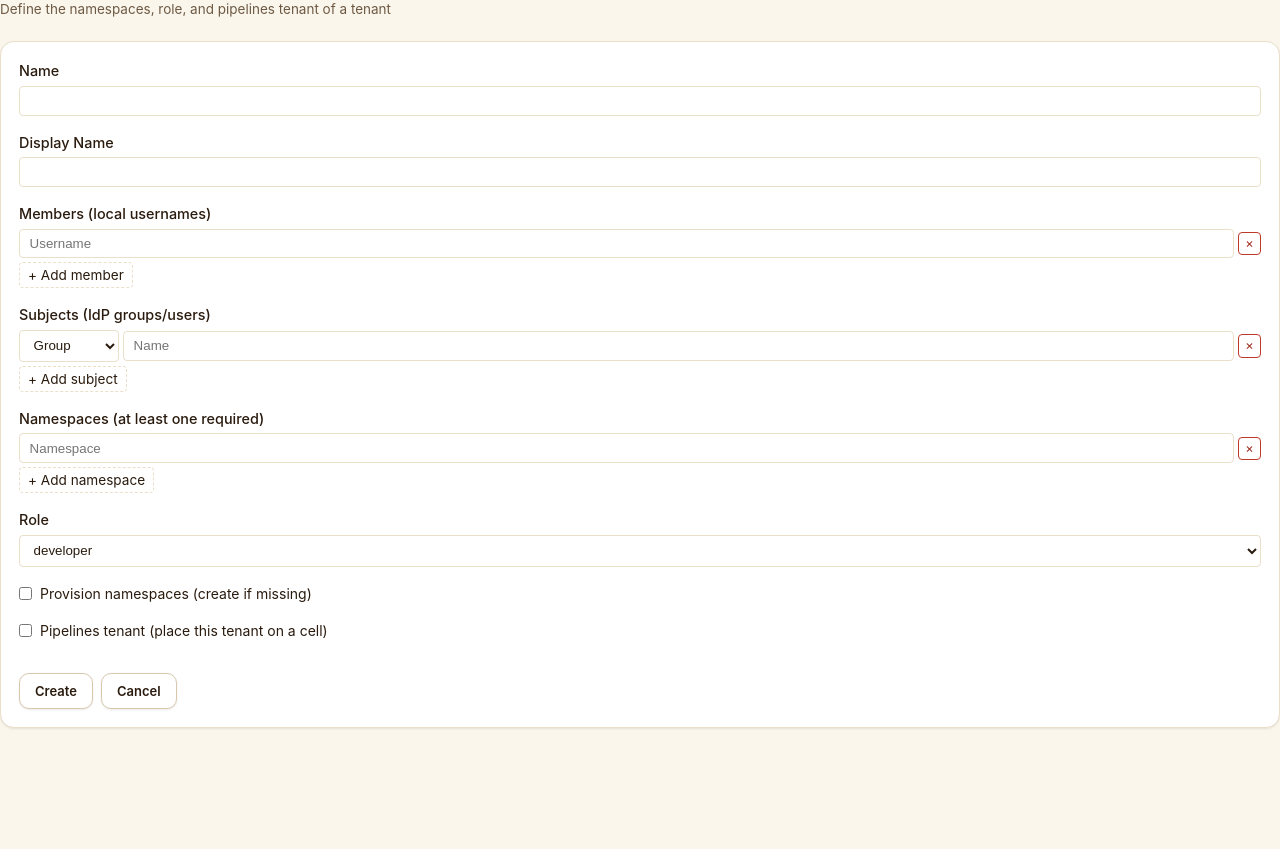
Test case: TenantForm › rejects a submitted export that names neither a job pattern nor a caller
This screenshot has width=1280, height=849.
Type "payments" into the 1st field. click: (640, 101)
box: [19,86,1261,116]
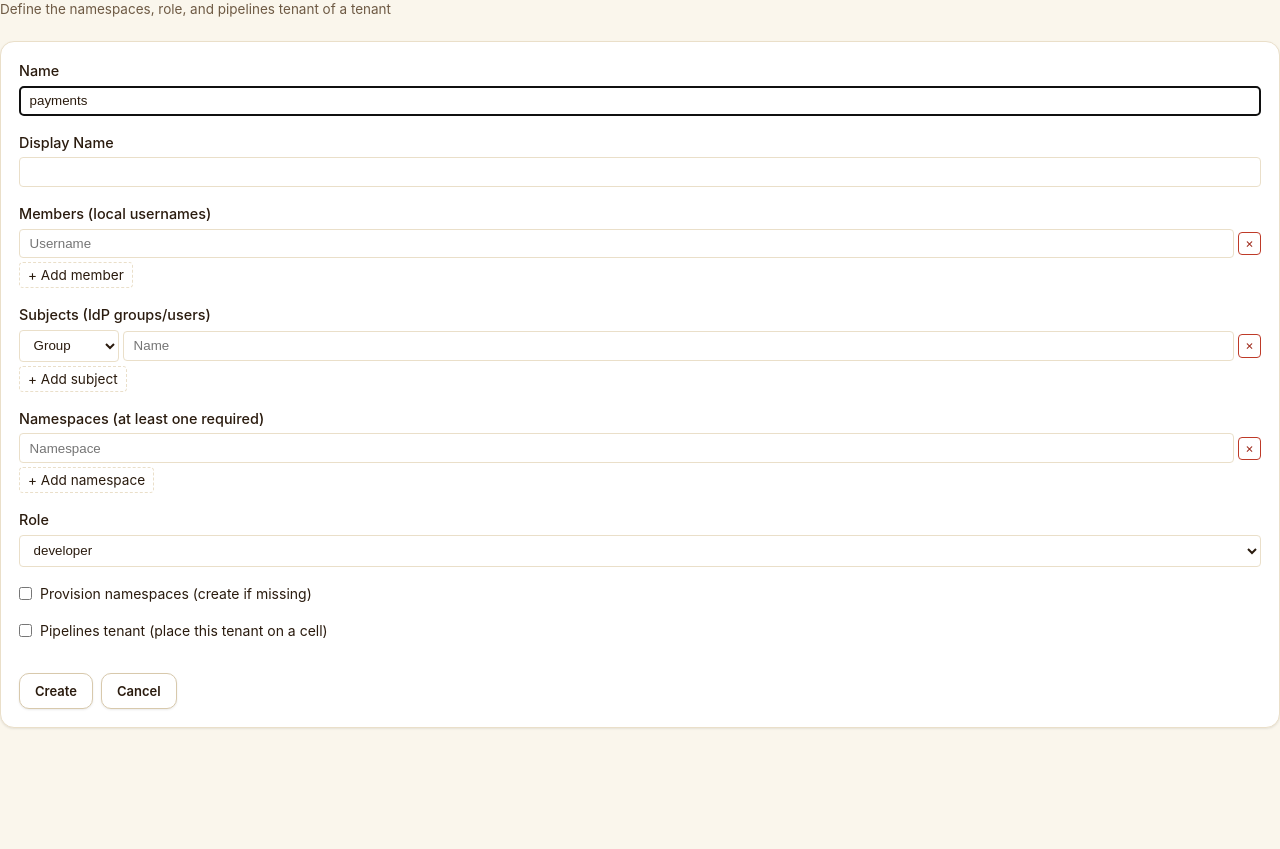
Type "alice" into the field with placeholder "Username". click: (626, 244)
box: [19,229,1234,258]
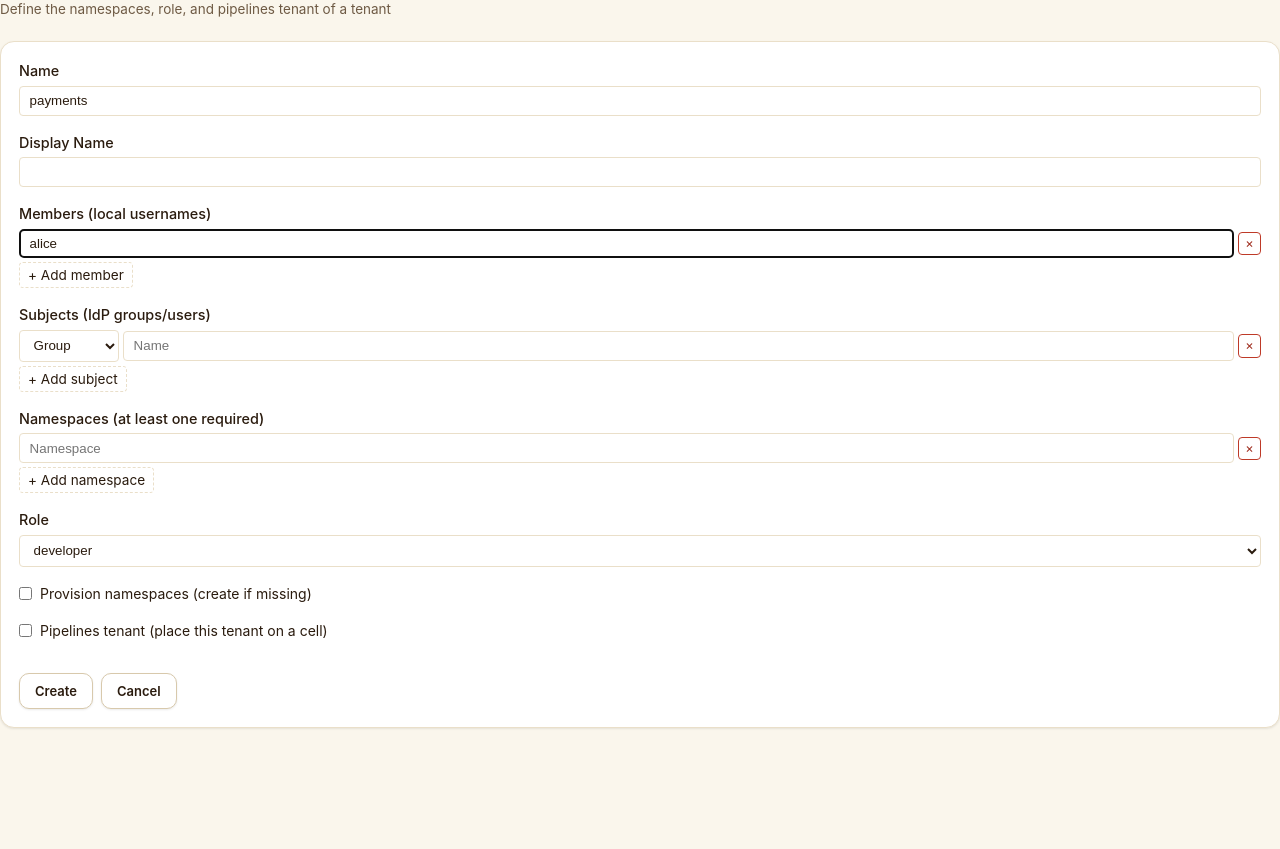
Type "ns1" into the field with placeholder "Namespace". click: (626, 448)
box: [19,433,1234,463]
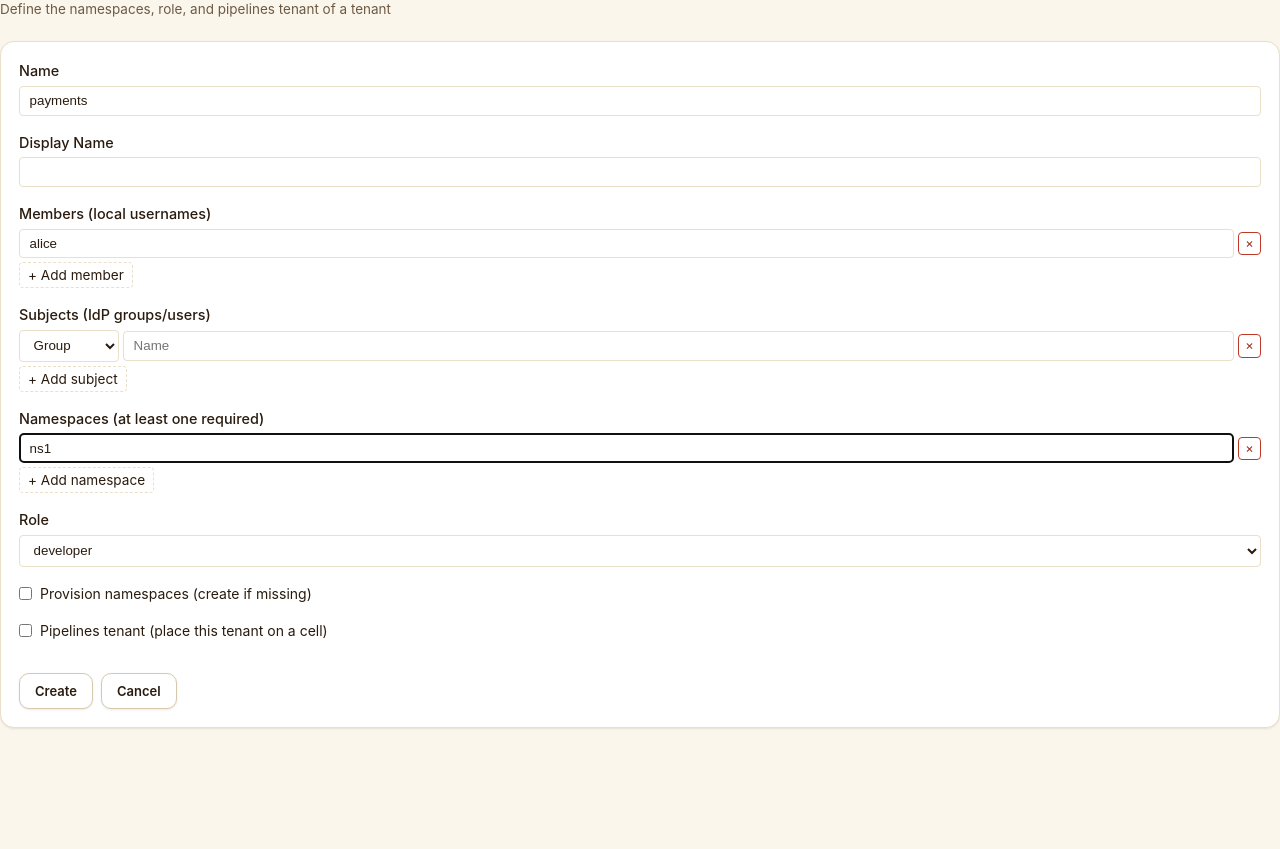
Click the checkbox labelled "Pipelines tenant (place this tenant on a cell)". click: (26, 630)
box: [19,624,32,637]
(page scrolled)
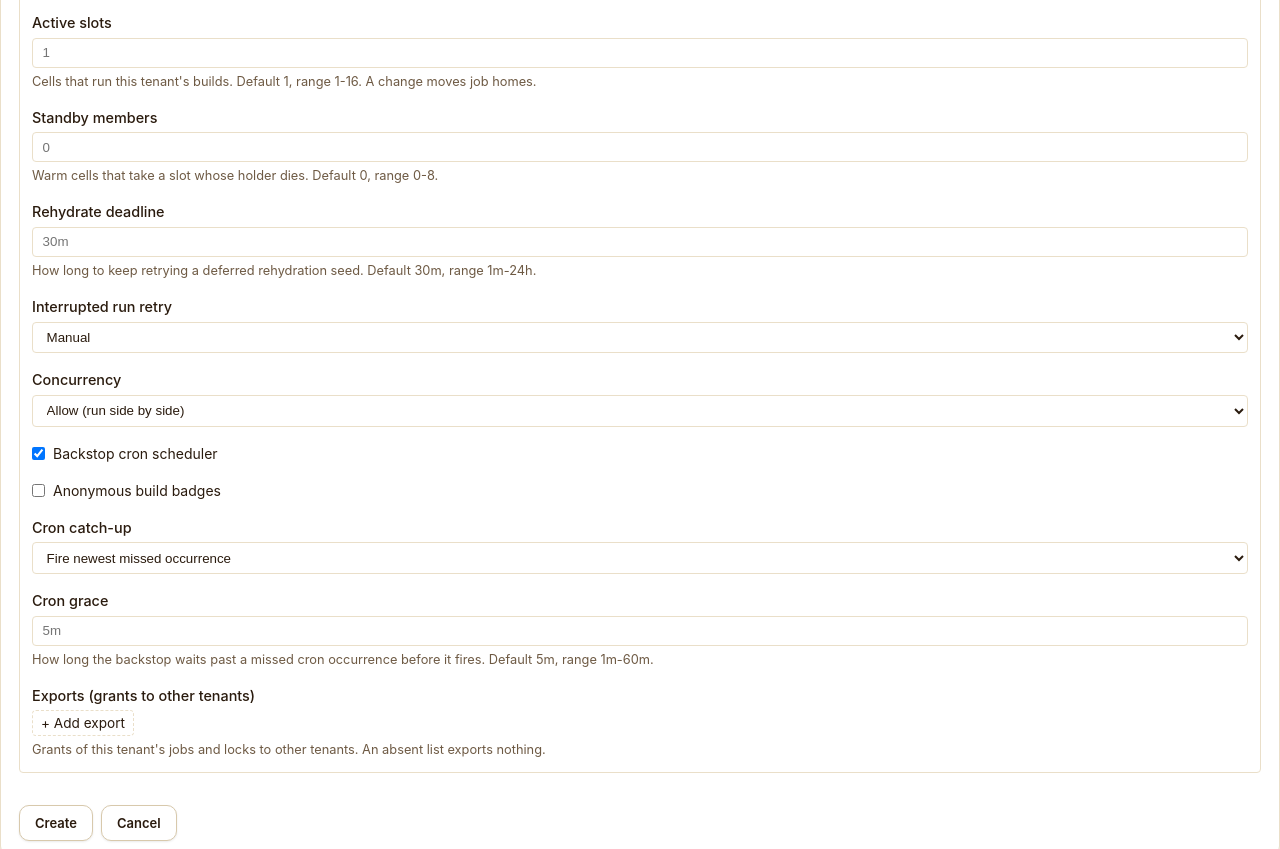
Click the button "+ Add export". click: (83, 723)
box: [32,710,134,736]
(page scrolled)
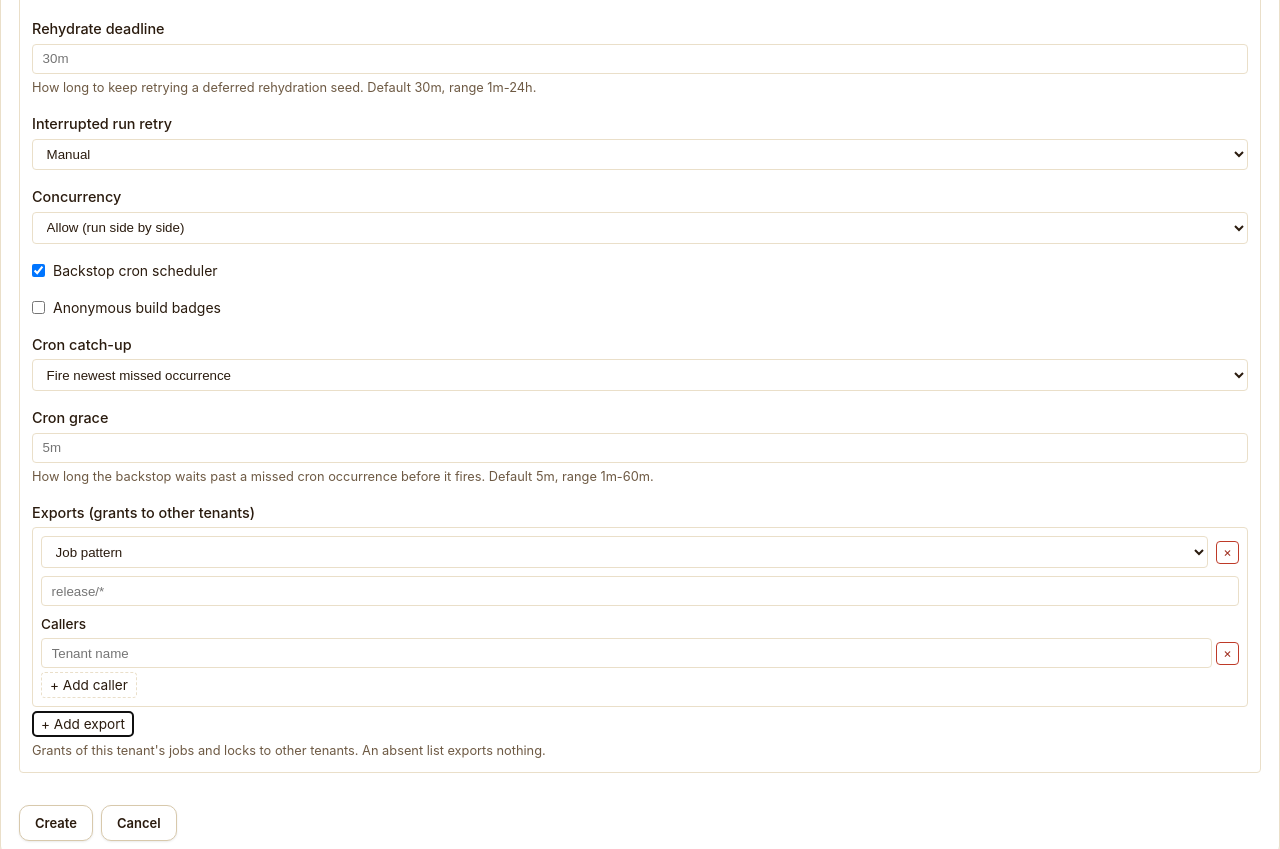
Click the button "Create". click: (56, 823)
box: [19,805,93,841]
(page scrolled)
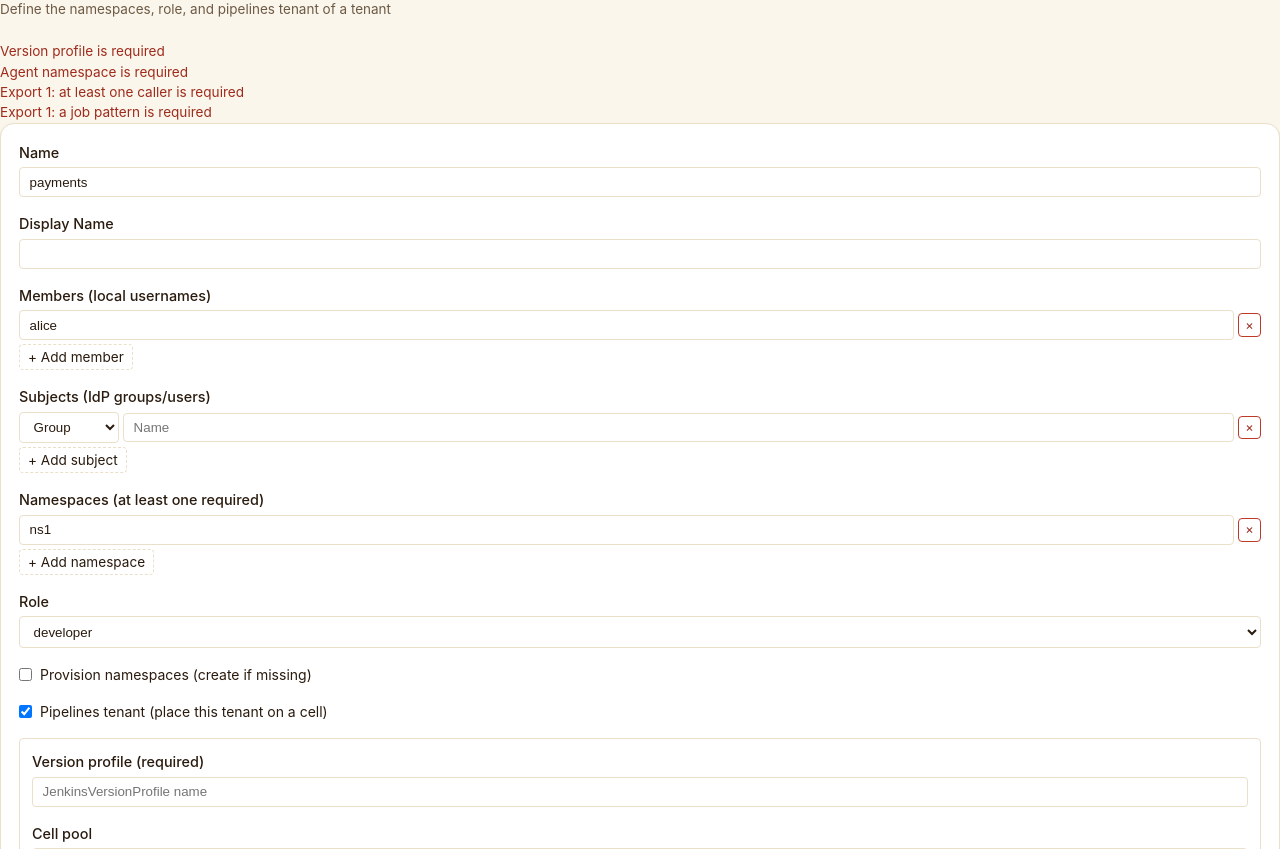
Expected: the text "Export 1: a job pattern is required" is shown, [0,104,212,120]
Expected: the text "Export 1: at least one caller is required" is shown, [0,84,244,100]
